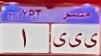1: (17, 27, 30, 46)
ي: (50, 31, 67, 49), (66, 31, 83, 48), (82, 32, 99, 48)
